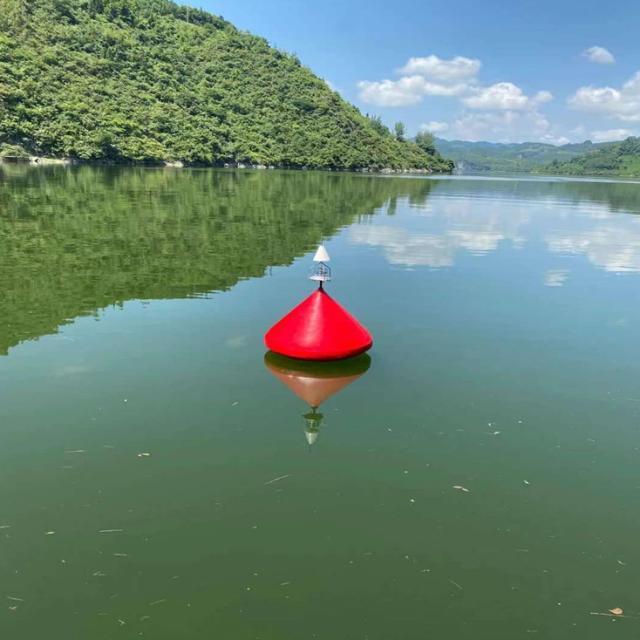buoy: (257, 235, 374, 363)
